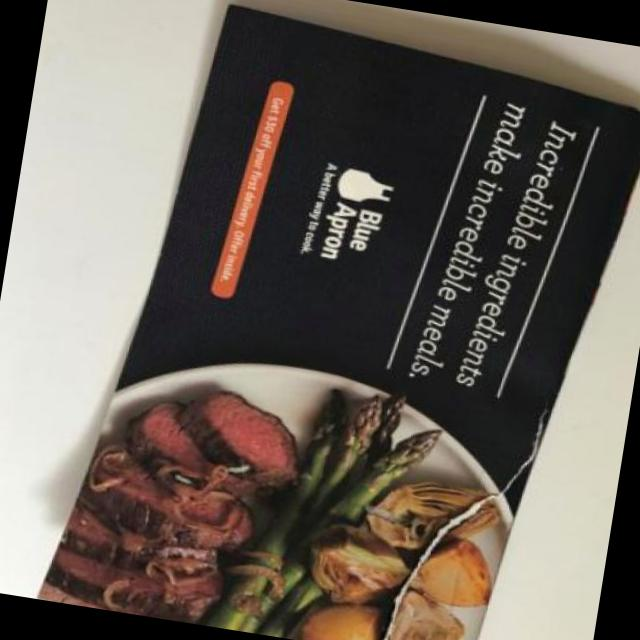cardboard paper: (38, 8, 640, 640)
